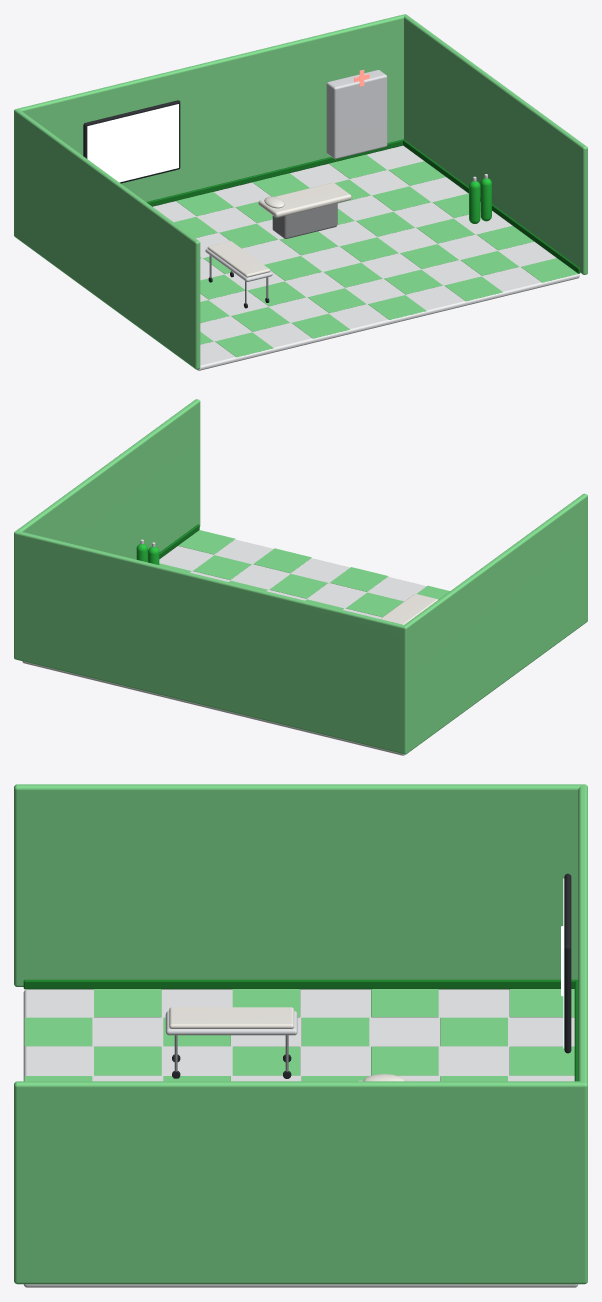
File: mad_science_hospital.glb
3 views of the same model, one above another, from view 1: azimuth 30°, elevation 25°; view 2: azimuth 150°, elevation 25°; view 3: azimuth 270°, elevation 25° (orthographic). The views are drawn at different scales.
Visible parts, largest first — view 1: Set, Flat_001, Glow, Part_074, Flat_032, Flat_033, Flat_036, Flat_013, Flat_024, Flat_031, Flat_035, Flat_017 (+21 smaller); view 2: Set, Flat_001, Part_074, Flat_029, Flat_033, Flat_025, Flat_037, Flat_021, Flat_041; view 3: Set, Flat_001, Part_074, Flat_007, Flat_009, Flat_006, Flat_013, Flat_011, Flat_003, Flat_005, Flat_012, Flat_010 (+4 smaller).
Part boxes in pixels (box(x1,y1,x2,y2)): Set: box(14, 14, 587, 369); Flat_001: box(153, 145, 579, 370); Glow: box(87, 70, 369, 182); Part_074: box(207, 241, 270, 277); Flat_032: box(400, 244, 458, 268); Flat_033: box(444, 276, 502, 301); Flat_036: box(416, 218, 474, 243); Flat_013: box(231, 307, 289, 331); Flat_024: box(324, 263, 382, 287); Flat_031: box(356, 212, 414, 236); Flat_035: box(372, 186, 430, 211); Flat_017: box(292, 313, 349, 338); Set: box(14, 399, 587, 754); Flat_001: box(22, 539, 426, 755); Part_074: box(380, 593, 437, 624); Flat_029: box(269, 574, 327, 598); Flat_033: box(253, 548, 311, 573); Flat_025: box(330, 567, 388, 591); Flat_037: box(193, 555, 251, 579); Flat_021: box(346, 592, 403, 617); Flat_041: box(178, 530, 235, 554); Set: box(14, 784, 587, 1284); Flat_001: box(23, 989, 578, 1287); Part_074: box(169, 1007, 293, 1028); Flat_007: box(301, 1017, 369, 1046); Flat_009: box(24, 1017, 92, 1046); Flat_006: box(440, 1017, 507, 1046); Flat_013: box(94, 1046, 161, 1075); Flat_011: box(371, 1046, 438, 1075); Flat_003: box(371, 989, 438, 1017); Flat_005: box(94, 989, 161, 1017); Flat_012: box(232, 1046, 300, 1075); Flat_010: box(509, 1046, 574, 1075).
Bounding box in the file's own units: 10.28 × 3.32 × 8.28.
